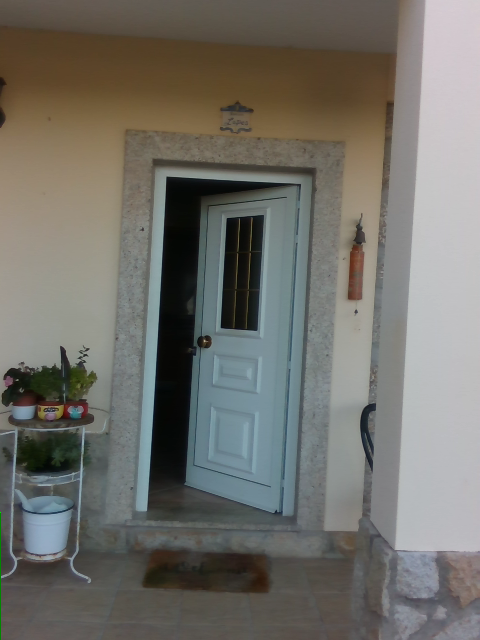semi: (135, 163, 314, 520)
